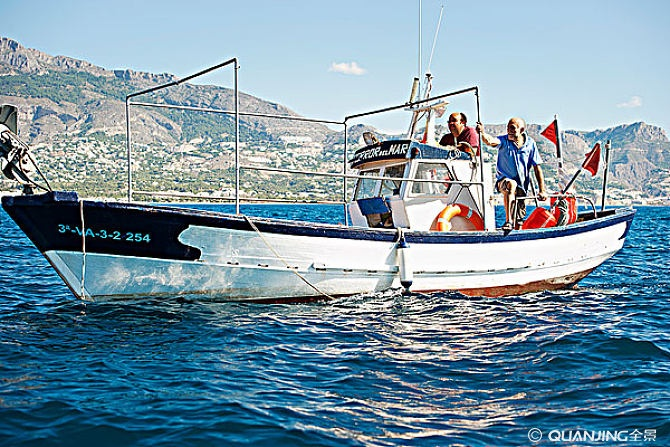otherboat: (1, 85, 640, 308)
person: (482, 114, 552, 230), (440, 109, 484, 160)
